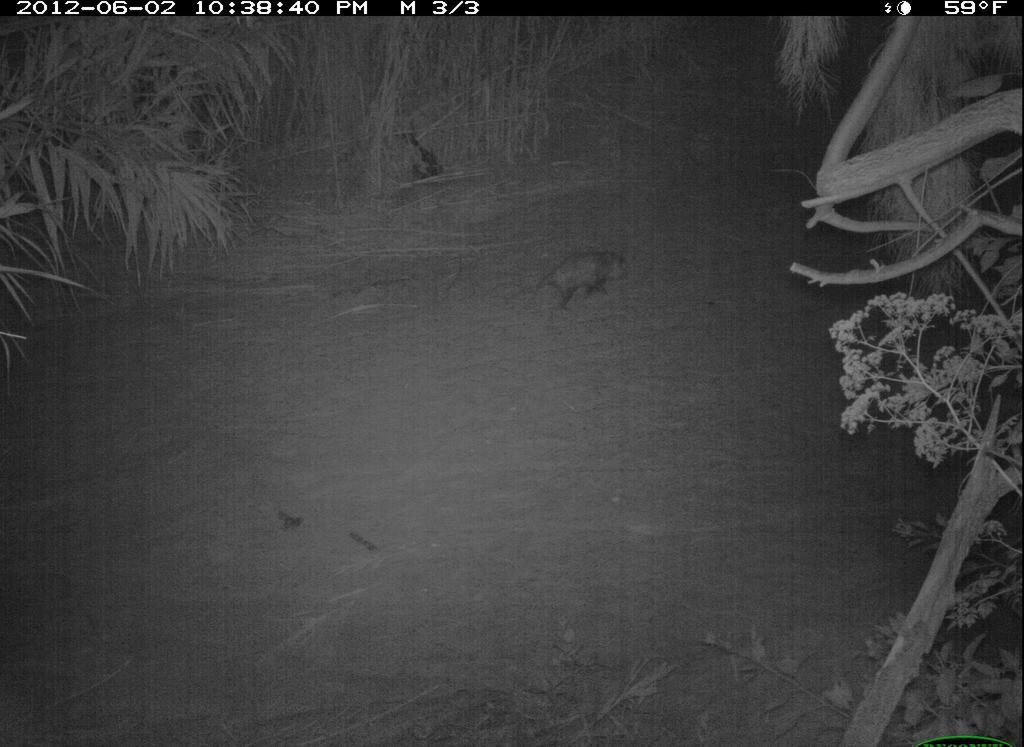opossum: (537, 228, 646, 322)
